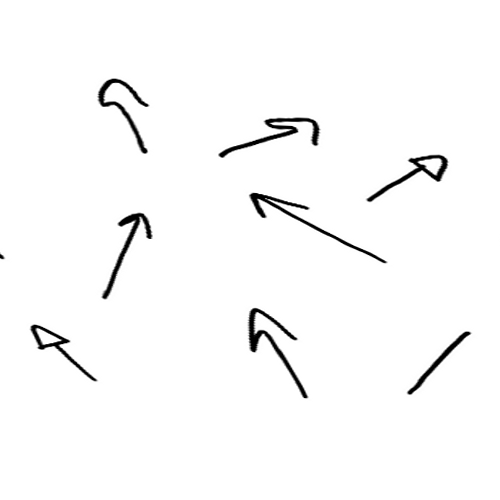arrow: (245, 192, 388, 263), (239, 303, 307, 401), (215, 115, 321, 167), (365, 151, 450, 208), (105, 214, 155, 310), (402, 326, 475, 388), (97, 76, 151, 157), (30, 323, 97, 384)
